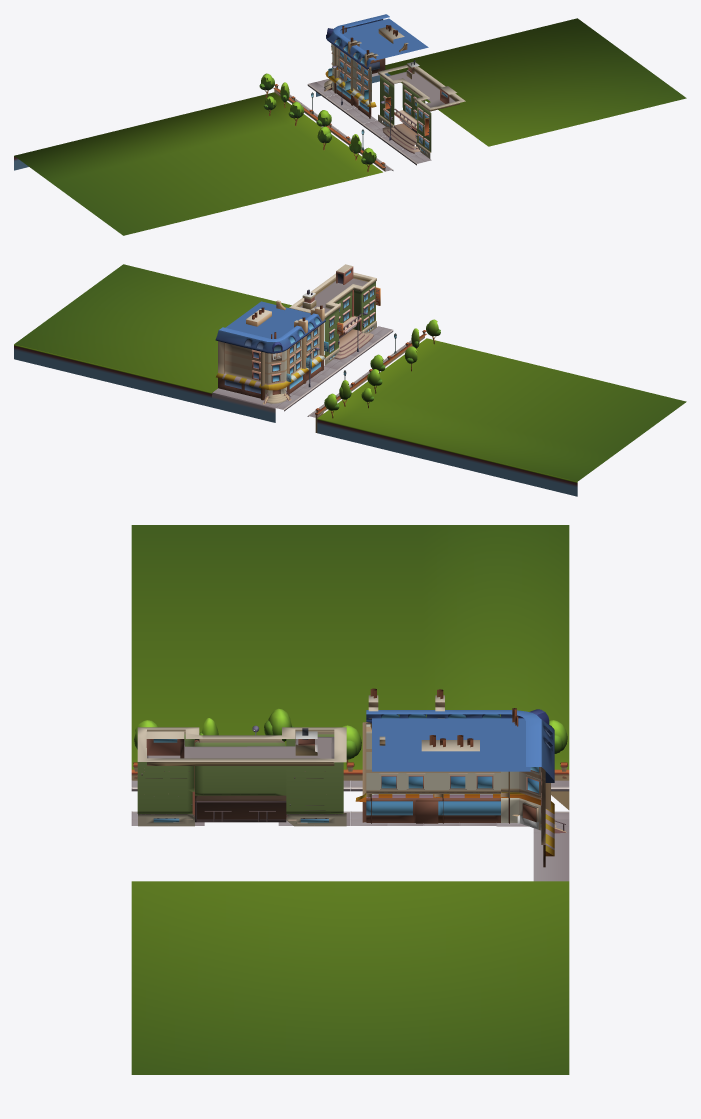
Rendered from Tom1_CityParkSet01_30.fbx.
3 views of the same model, one above another, from view 1: azimuth 30°, elevation 25°; view 2: azimuth 150°, elevation 25°; view 3: azimuth 270°, elevation 25° (orthographic). The views are drawn at different scales.
Visible parts, largest first — view 1: Tom1_CityParkSet01_30; view 2: Tom1_CityParkSet01_30; view 3: Tom1_CityParkSet01_30.
Part boxes in pixels (x1,y1,x2,y2): Tom1_CityParkSet01_30: (14, 14, 686, 235); Tom1_CityParkSet01_30: (14, 264, 686, 496); Tom1_CityParkSet01_30: (131, 525, 569, 1074).
Bounding box in the file's own units: 8921 × 1232 × 3000.
